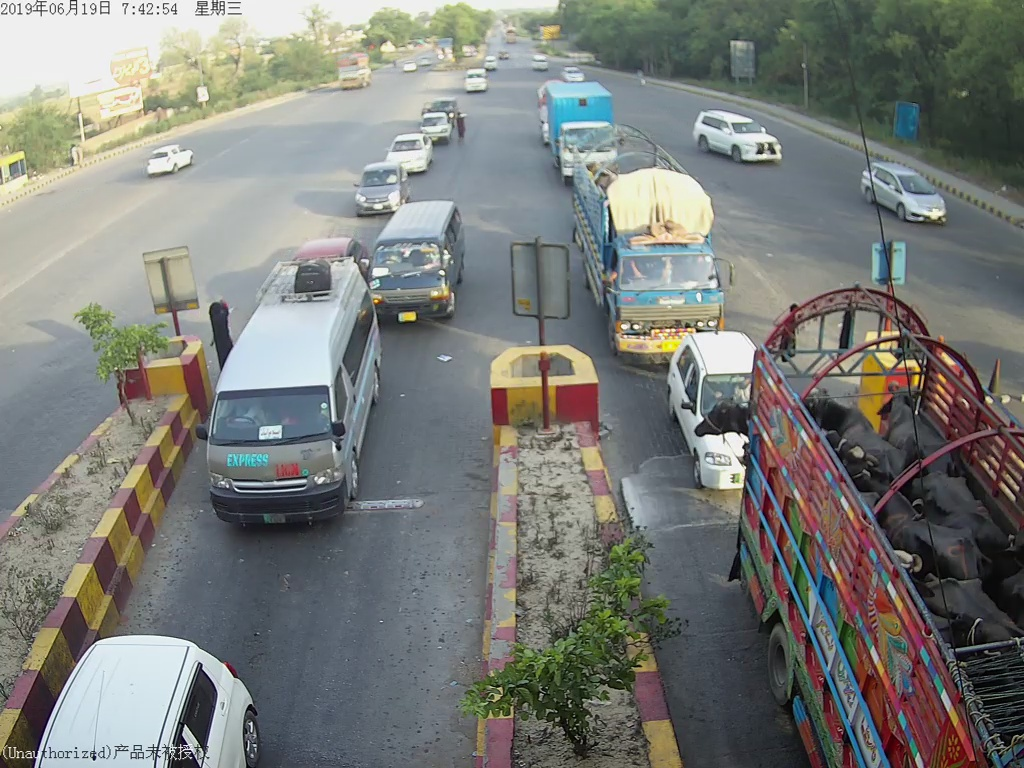Cat-1: (665, 336, 753, 495), (350, 166, 400, 214), (389, 132, 431, 175)
Cat-2: (201, 241, 377, 542), (377, 205, 475, 331)
Cat-4: (572, 139, 734, 331)
